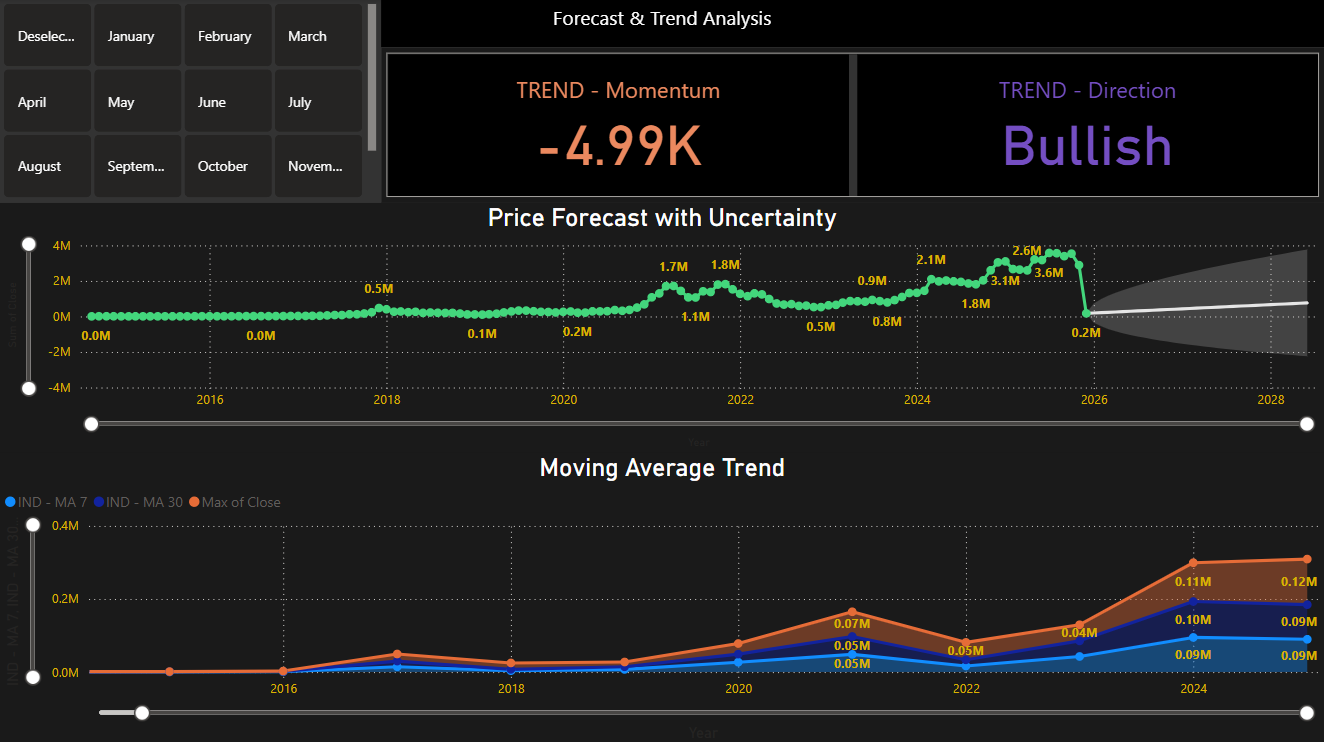

Layout of this report page (visuals, bound fields, positions):
{"tool":"powerbi","page":{"name":"FORECAST & TREND ANALYSIS","canvas":[1280,720],"ordinal":2},"visuals":[{"type":"textbox","box":[0,0,1280.3,46.7],"z":0},{"type":"cardVisual","fields":{"Data":["DAX.TREND - Momentum","DAX.TREND - Direction"]},"box":[369.2,47.1,910.9,149.6],"z":1000},{"type":"lineChart","title":"Price Forecast with Uncertainty","fields":{"Y":["Sum(Bitcoin.Close)"],"Category":["Bitcoin.Date.Variation.Date Hierarchy.Year","Bitcoin.Date.Variation.Date Hierarchy.Month"]},"box":[0,196.2,1280.3,241.5],"z":2000},{"type":"stackedAreaChart","title":"Moving Average Trend","fields":{"Category":["Bitcoin.Date.Variation.Date Hierarchy.Year"],"Y":["DAX.IND - MA 7","DAX.IND - MA 30","Max(Bitcoin.Close)"]},"box":[0,437.7,1280.3,282.7],"z":3000},{"type":"advancedSlicerVisual","fields":{"Values":["Bitcoin.Date.Variation.Date Hierarchy.Month"]},"box":[0,0,369.2,196.6],"z":4000}]}

Visuals, with their boxes in screenshot pixels (x1, y1, x2, y2), scaled from the page's 1280x720 canvas onto the 1324x742 screenshot:
textbox: <bbox>0, 0, 1323, 48</bbox>
cardVisual - DAX.TREND - Momentum x DAX.TREND - Direction: <bbox>382, 49, 1323, 203</bbox>
"Price Forecast with Uncertainty" lineChart: <bbox>0, 202, 1323, 451</bbox>
"Moving Average Trend" stackedAreaChart: <bbox>0, 451, 1323, 741</bbox>
advancedSlicerVisual - Bitcoin.Date.Variation.Date Hierarchy.Month: <bbox>0, 0, 382, 203</bbox>
